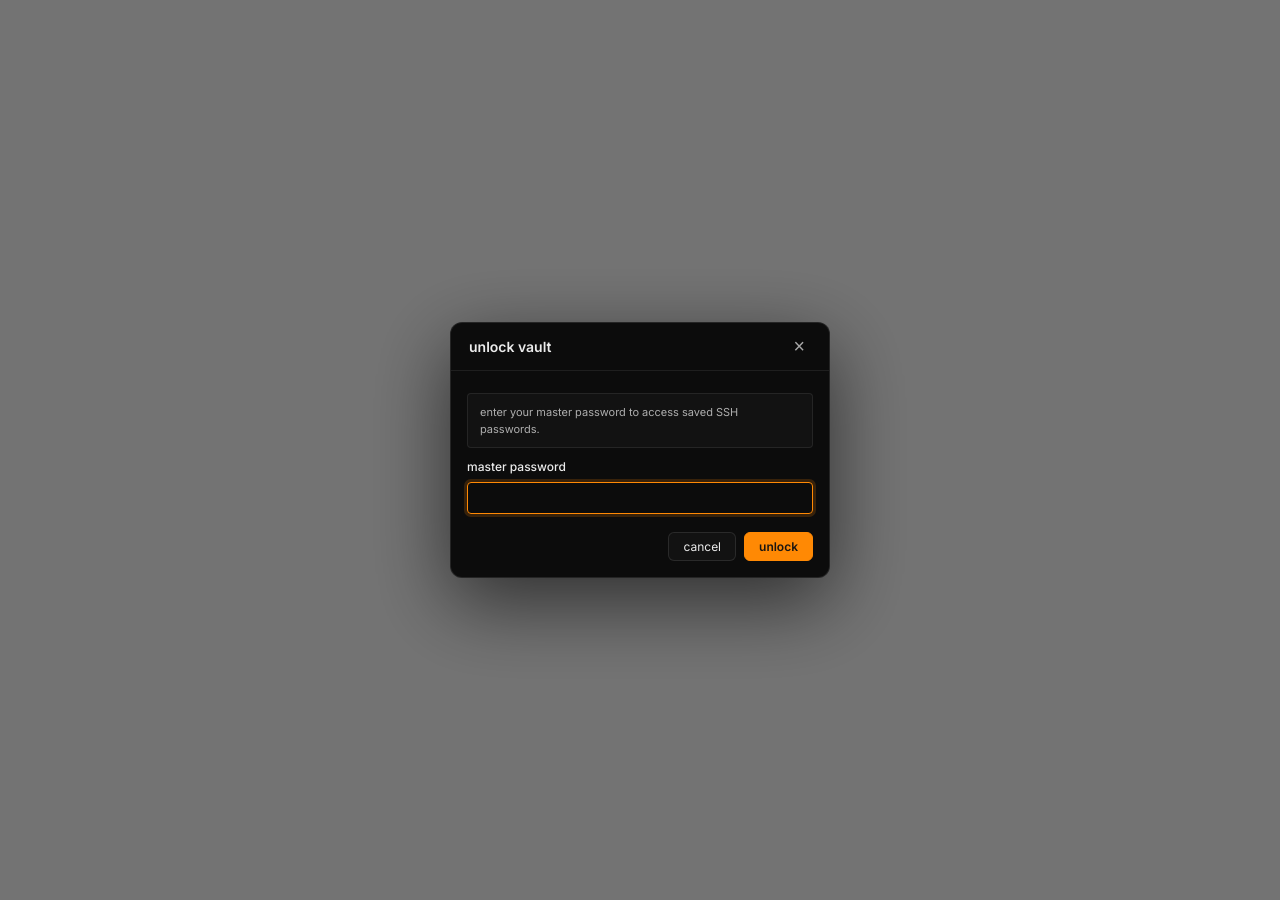
Test case: MasterPasswordModal - unlock mode › propagates async failure as error string
This screenshot has width=1280, height=900.
Type "wrong" into the password field with class "settings-input" at (640, 498), box [467, 482, 813, 514]
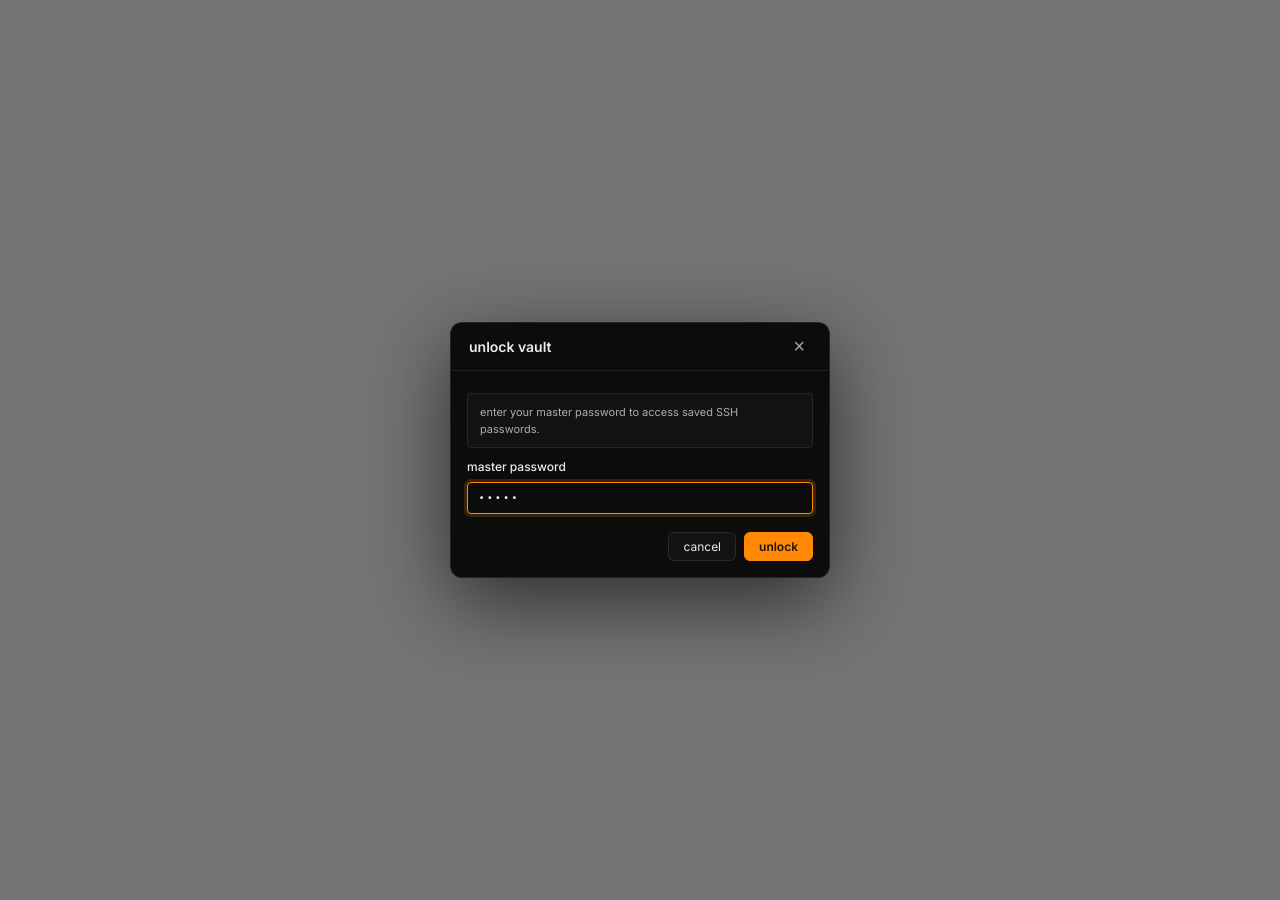
Click the button "unlock" at (778, 547), box [744, 532, 813, 561]
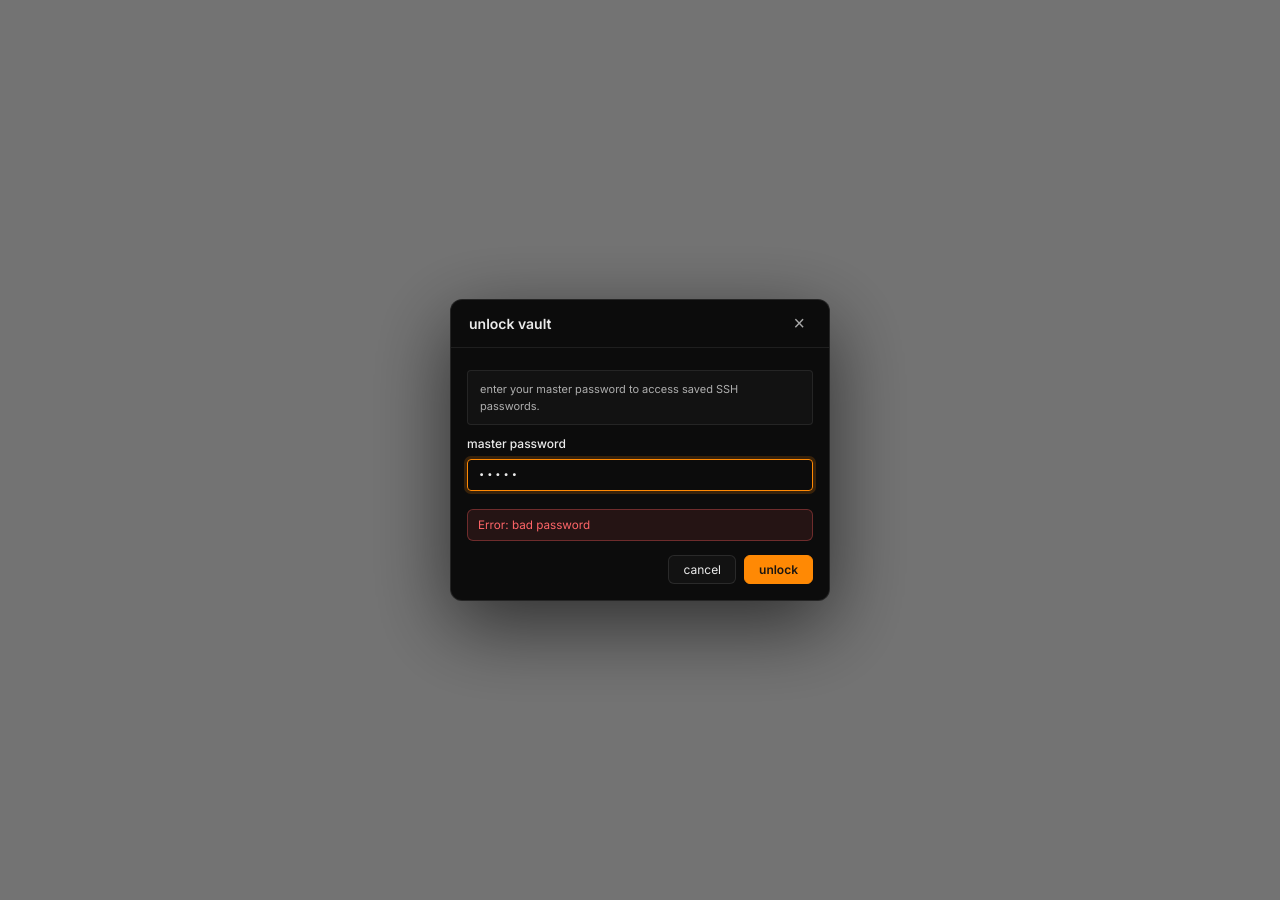
Expected: the text "Error: bad password" is shown, [467, 509, 813, 541]
